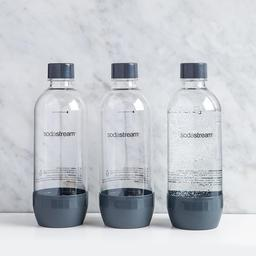plastic: (92, 52, 161, 237), (160, 57, 229, 241), (26, 55, 96, 236)
